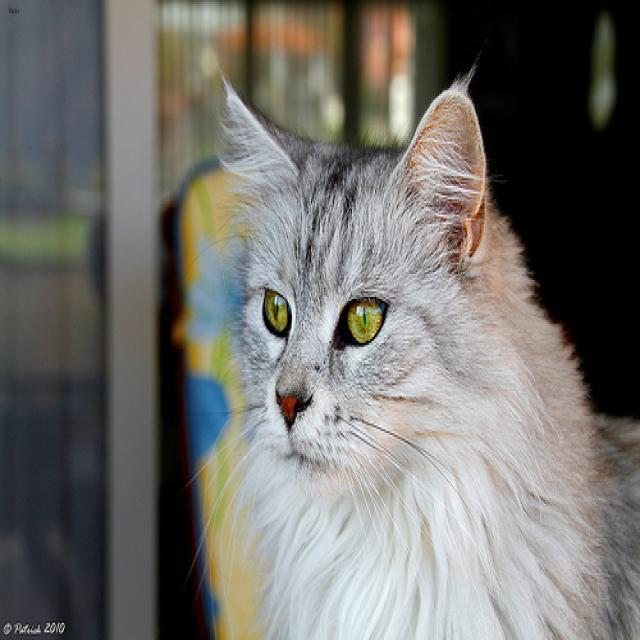Maine_Coon: (224, 83, 485, 491)
